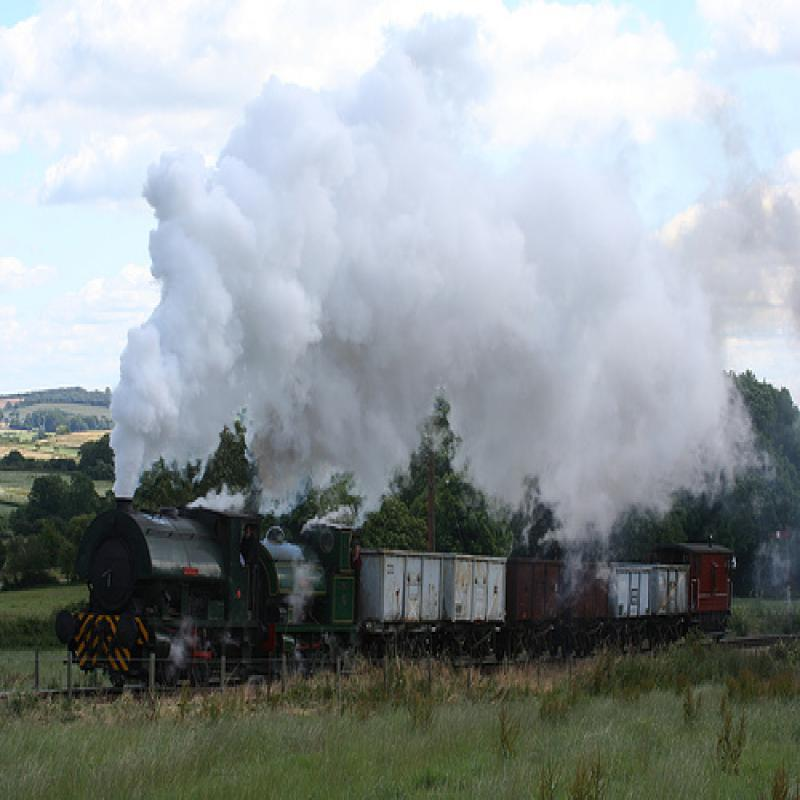train: (64, 491, 741, 691)
